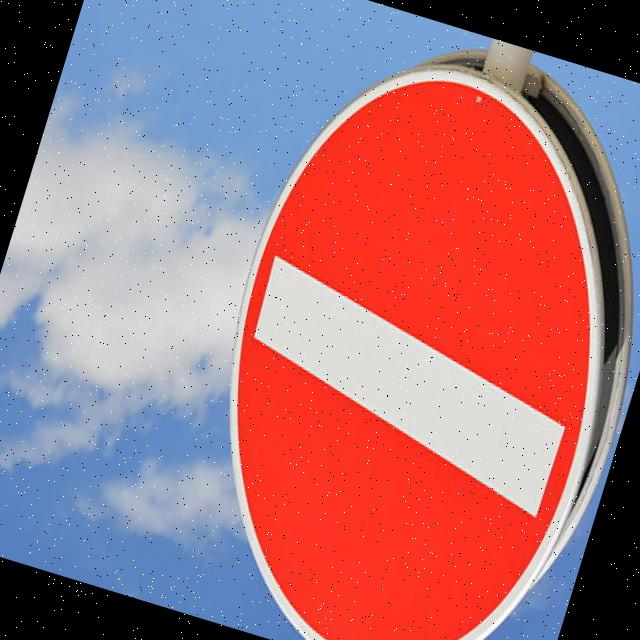do_not_enter: (139, 18, 640, 640)
